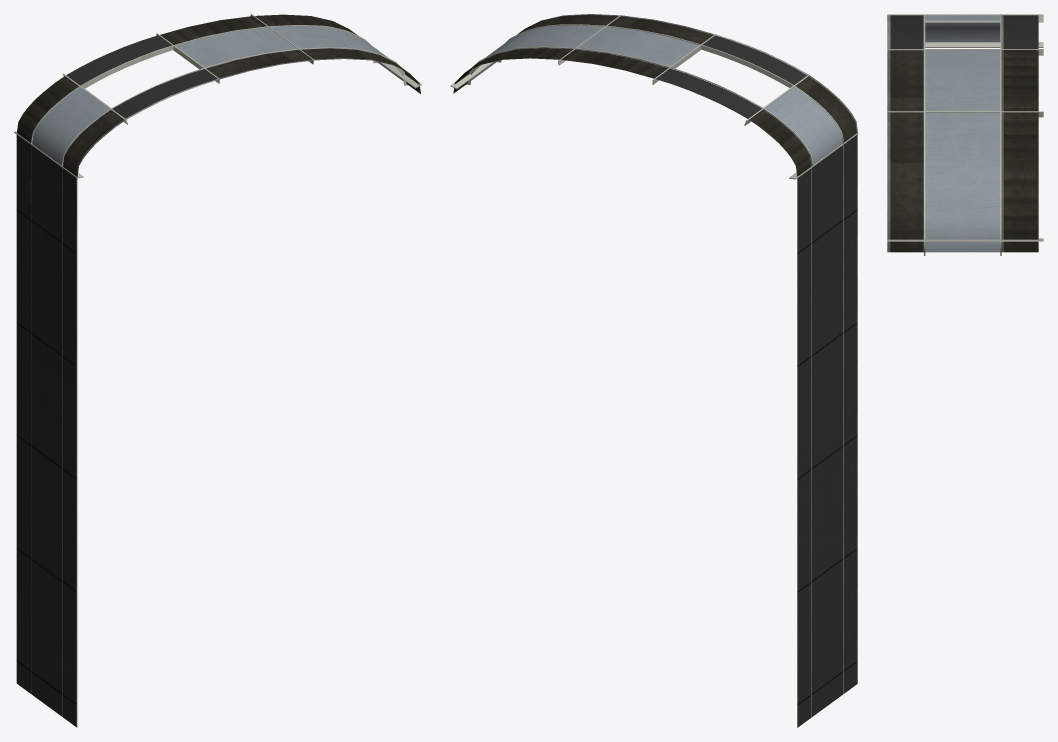
Rendered from nt_2020_house_02_glass_exterior_LOD0.obj.
The picture shows the model from 3 angles, left to right: view 1: azimuth 30°, elevation 25°; view 2: azimuth 150°, elevation 25°; view 3: azimuth 270°, elevation 25°; orthographic projection. The views are drawn at different scales.
Parts seen in each view (by area): view 1: nt_2020_glass_trim01, nt_2020_glass_curtain, glass_clear_mp_model, hjk_interior_plastic_tile; view 2: nt_2020_glass_trim01, nt_2020_glass_curtain, glass_clear_mp_model, hjk_interior_plastic_tile; view 3: glass_clear_mp_model, nt_2020_glass_curtain, hjk_interior_plastic_tile, nt_2020_glass_trim01.
Boxes of the visible parts, x1=… form: nt_2020_glass_trim01: x1=16, y1=35, x2=218, y2=727; nt_2020_glass_curtain: x1=17, y1=14, x2=420, y2=177; glass_clear_mp_model: x1=32, y1=25, x2=403, y2=165; hjk_interior_plastic_tile: x1=14, y1=14, x2=421, y2=178; nt_2020_glass_trim01: x1=656, y1=35, x2=857, y2=727; nt_2020_glass_curtain: x1=453, y1=14, x2=857, y2=176; glass_clear_mp_model: x1=471, y1=25, x2=842, y2=164; hjk_interior_plastic_tile: x1=450, y1=15, x2=858, y2=179; glass_clear_mp_model: x1=925, y1=15, x2=1000, y2=252; nt_2020_glass_curtain: x1=887, y1=50, x2=1038, y2=252; hjk_interior_plastic_tile: x1=887, y1=14, x2=1043, y2=255; nt_2020_glass_trim01: x1=887, y1=15, x2=1038, y2=49.
Bounding box in the file's own units: 988 × 1678 × 310.
